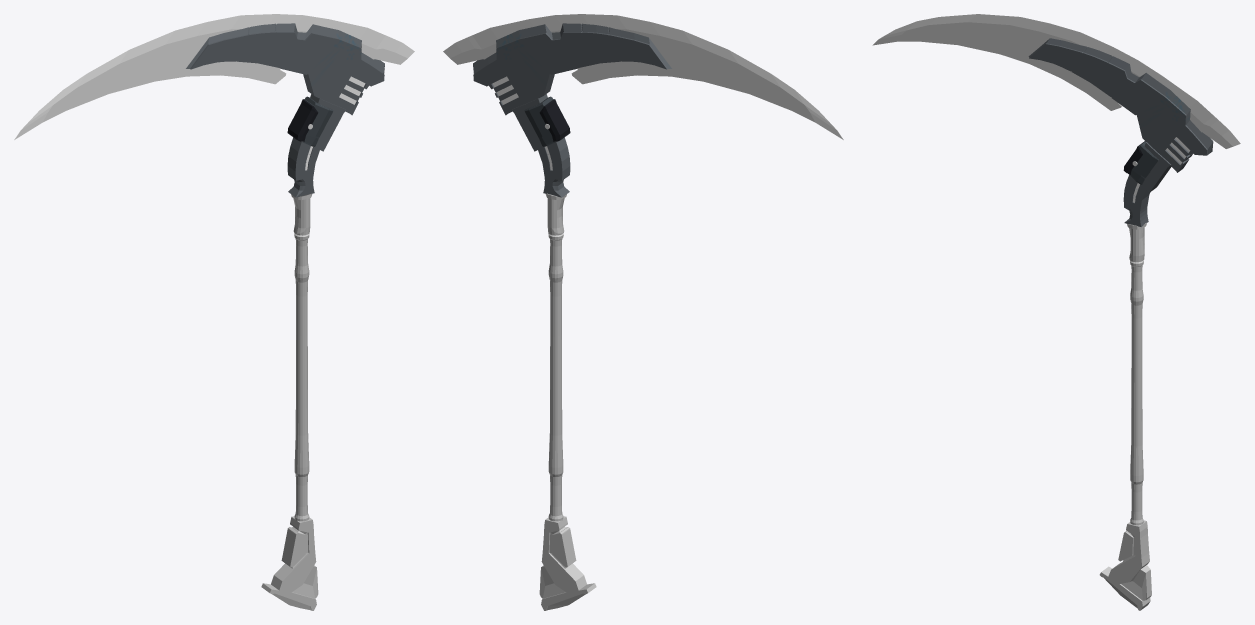
Rendered from scythe.fbx.
The picture shows the model from 3 angles, left to right: view 1: azimuth 30°, elevation 25°; view 2: azimuth 150°, elevation 25°; view 3: azimuth 330°, elevation 25°; orthographic projection. The views are drawn at different scales.
Parts seen in each view (by area): view 1: Head, Blade, Cylinder, Plane.004; view 2: Head, Blade, Cylinder, Plane.004; view 3: Head, Blade, Cylinder, Plane.004.
Boxes of the visible parts, x1=… form: Head: x1=186, y1=23, x2=384, y2=197; Blade: x1=14, y1=14, x2=414, y2=139; Cylinder: x1=291, y1=193, x2=312, y2=521; Plane.004: x1=261, y1=516, x2=318, y2=610; Head: x1=473, y1=23, x2=671, y2=197; Blade: x1=443, y1=14, x2=843, y2=139; Cylinder: x1=545, y1=193, x2=566, y2=521; Plane.004: x1=539, y1=516, x2=596, y2=610; Head: x1=1028, y1=38, x2=1213, y2=226; Blade: x1=872, y1=14, x2=1240, y2=148; Cylinder: x1=1127, y1=223, x2=1146, y2=525; Plane.004: x1=1099, y1=520, x2=1151, y2=610.
Size of the model in its own units: 145 by 211 by 7.
